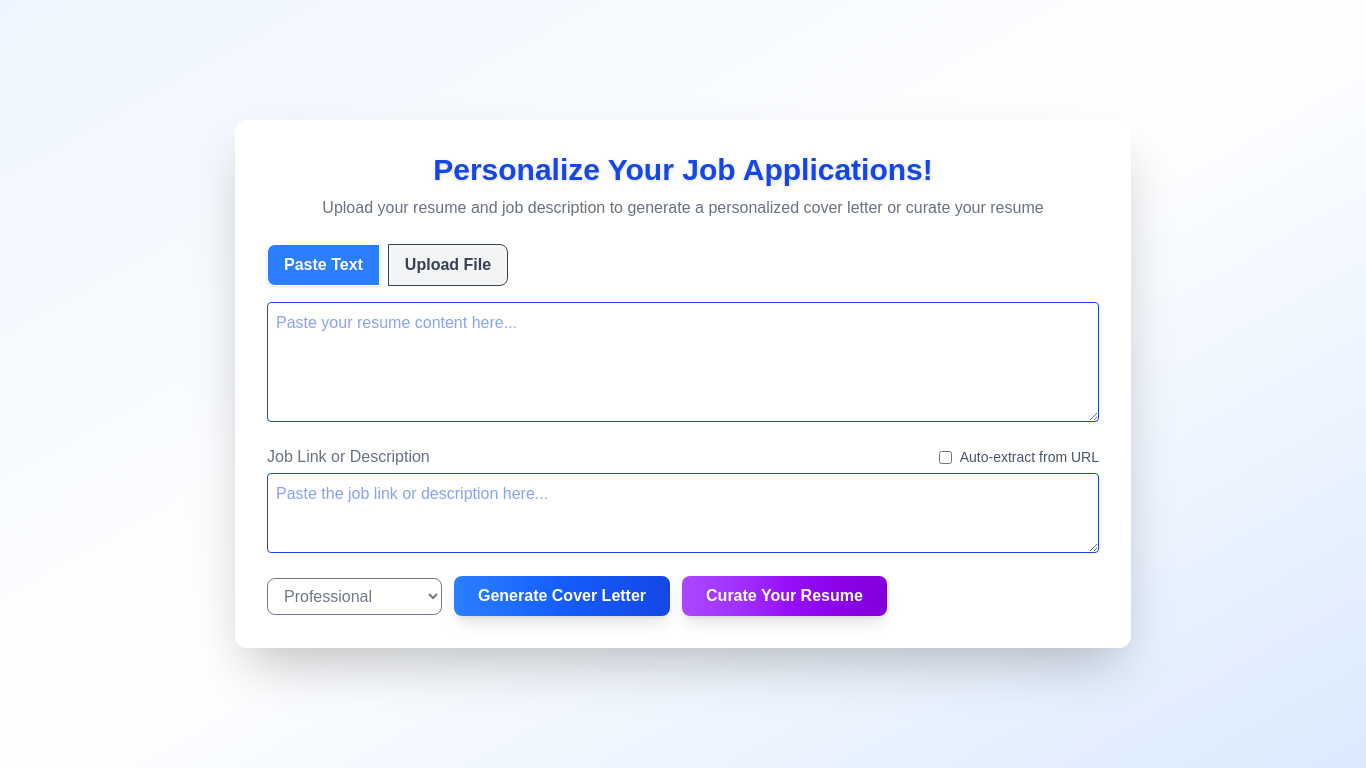
Test: Cover Letter Generator Page › should show error when submitting without required fields
The image size is (1366, 768).
Click the button "Generate Cover Letter" at (562, 596), box [454,576,670,616]
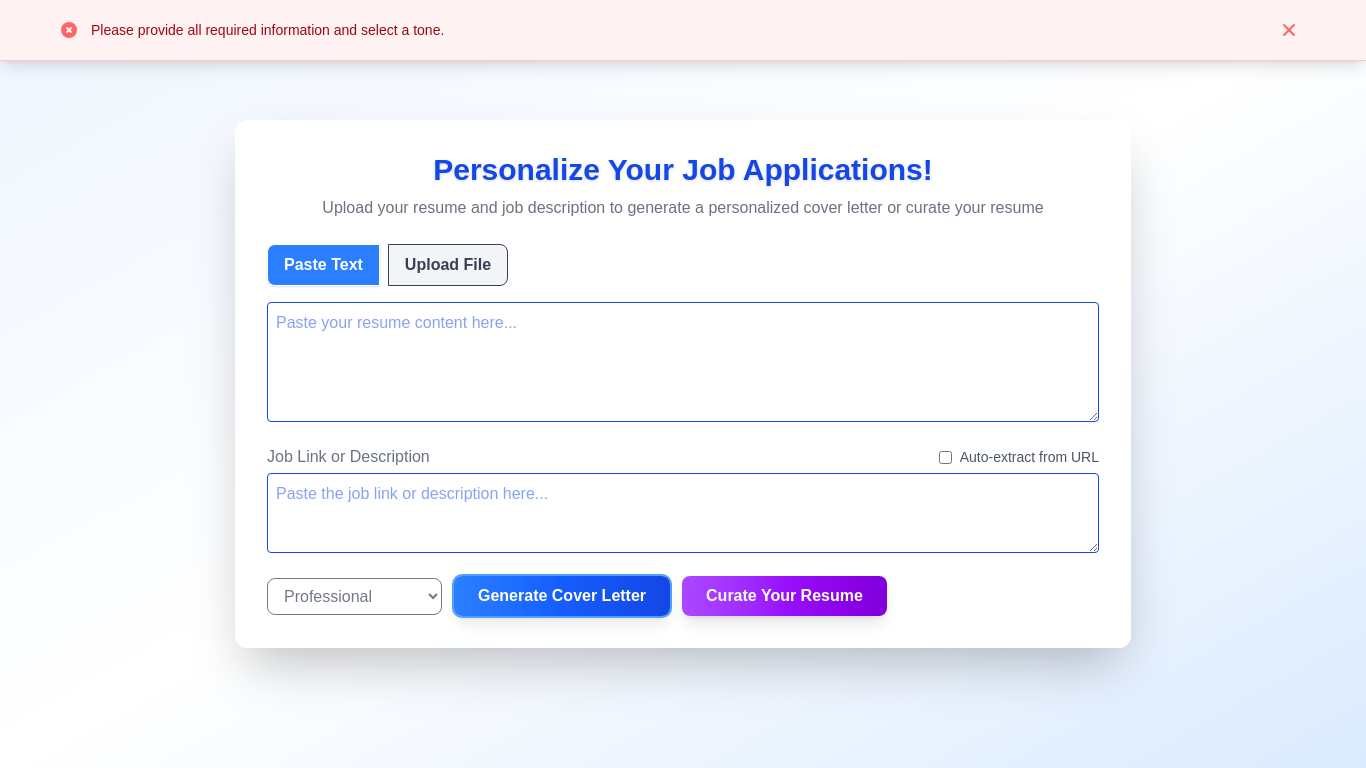
Result: the text "Please provide all required information and select a tone." is shown at [91,20,444,40]
